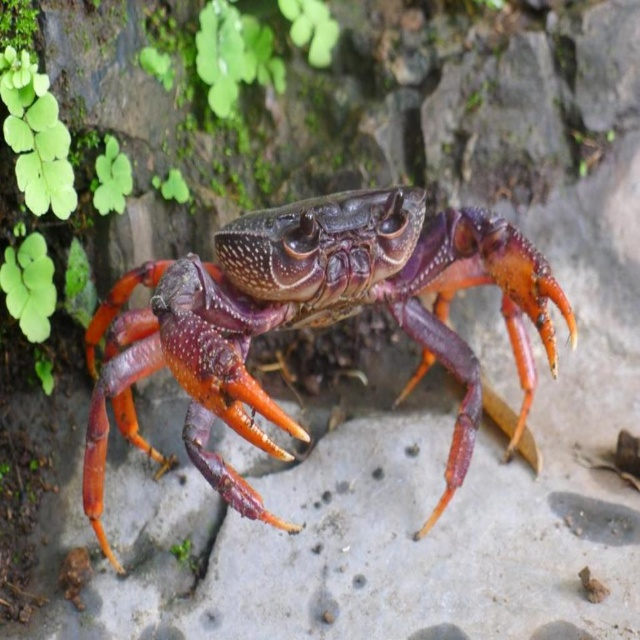Crab: (83, 185, 578, 574)
